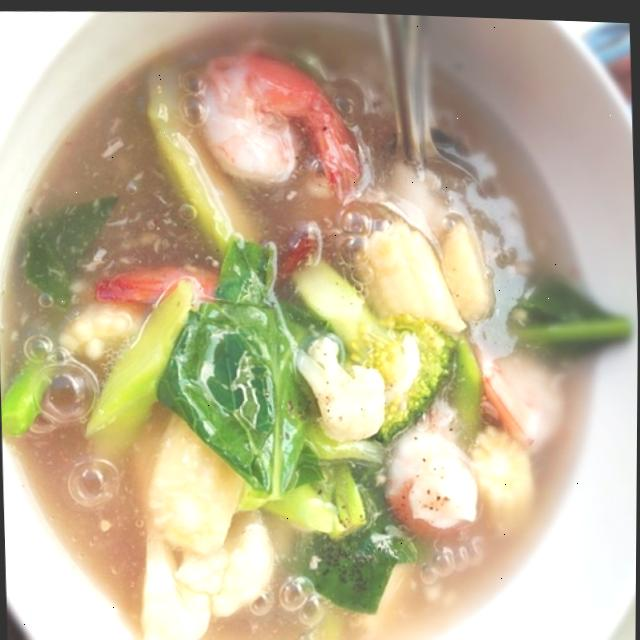面条主食: (5, 28, 604, 640)
